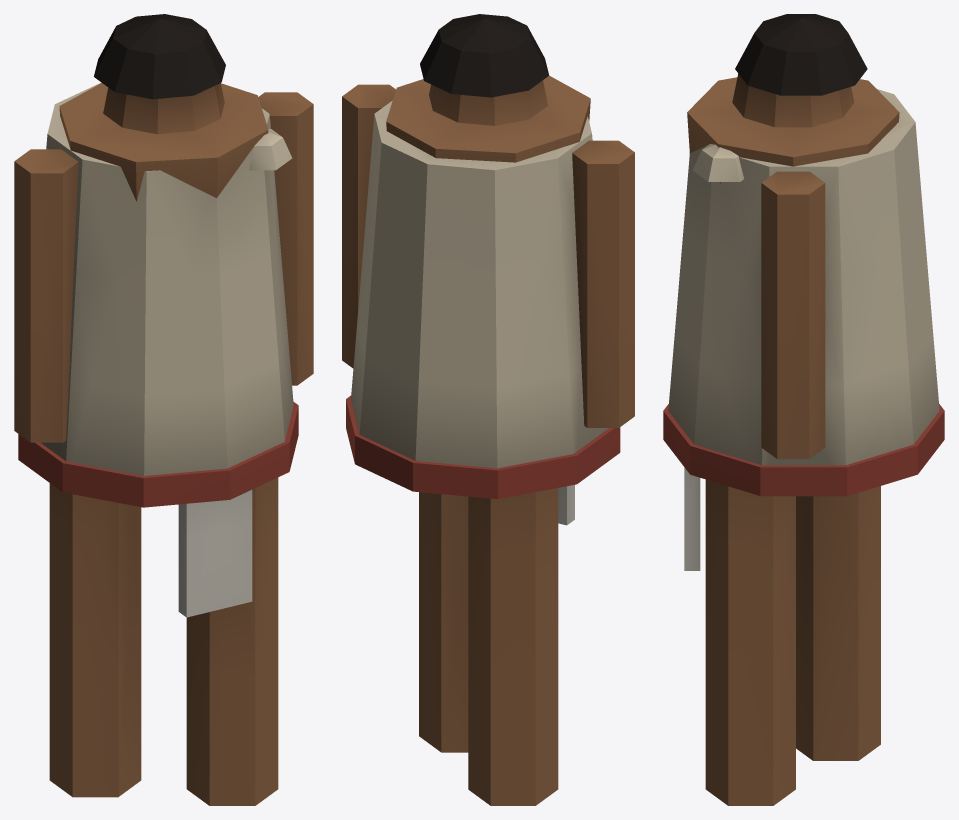
Rendered from walker.glb.
3 views of the same model, side by side, from view 1: azimuth 30°, elevation 25°; view 2: azimuth 150°, elevation 25°; view 3: azimuth 270°, elevation 25° (orthographic). The views are drawn at different scales.
Parts seen in each view (by area): view 1: base; view 2: base; view 3: base.
Part boxes in pixels (x1,y1,x2,y2): base: [14, 14, 313, 805]; base: [342, 14, 634, 805]; base: [663, 14, 944, 805].
Size of the model in its own units: 0.604 by 1.56 by 0.53.
